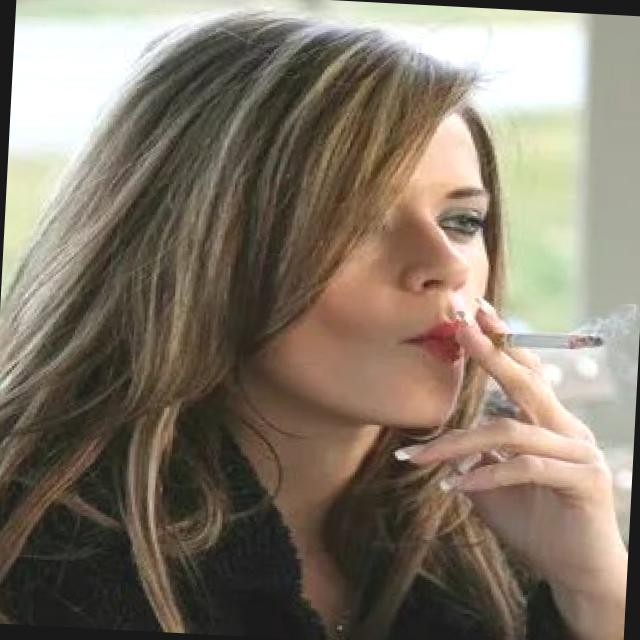cigarette: (477, 326, 608, 363)
